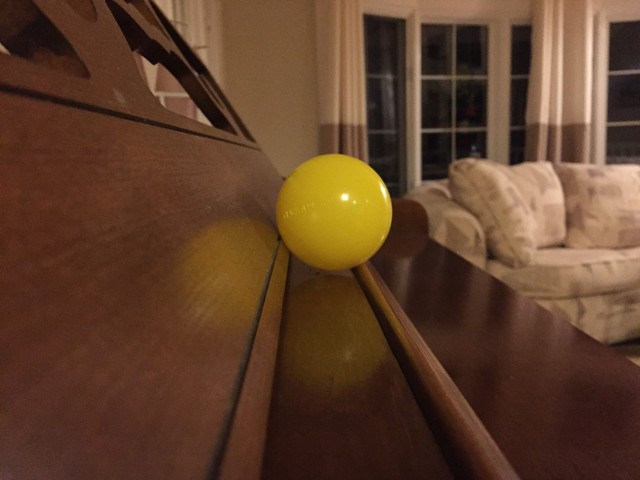Ball: (275, 153, 396, 274)
